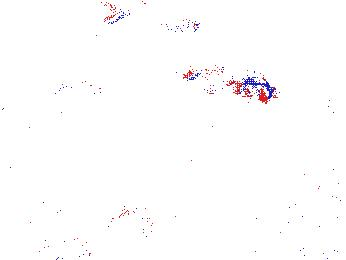X-ray fish: (121, 192, 158, 245)
glassfish: (170, 135, 264, 191)
red belly glassfish: (314, 94, 344, 117)
redtail glassfish: (97, 1, 203, 42), (186, 61, 258, 100), (47, 72, 105, 104)
